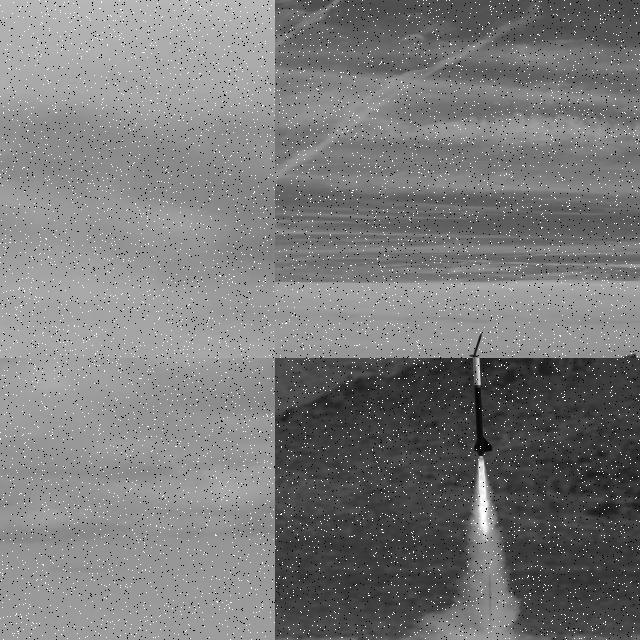Rocket: (469, 358, 493, 458), (469, 332, 482, 358)
